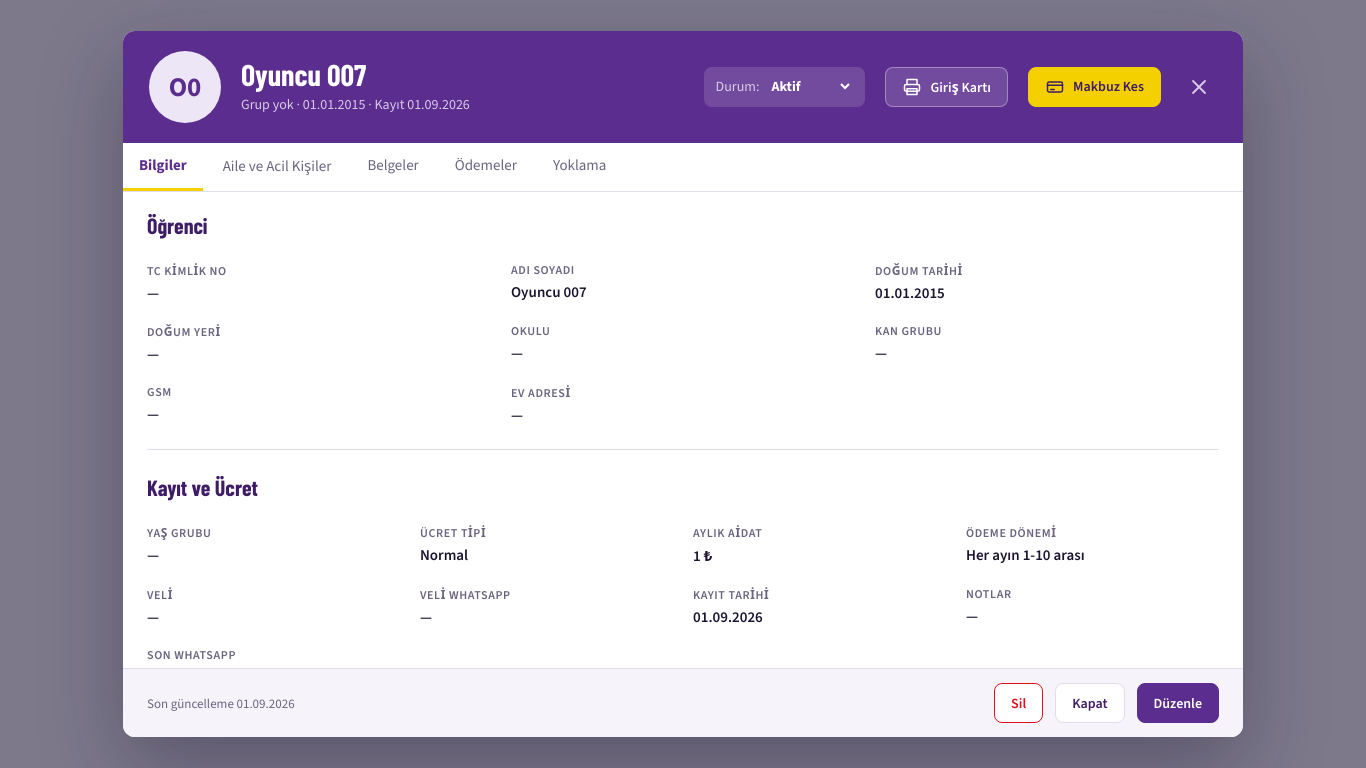
Test: Oyuncu kartı: makbuz ve yoklama sınırları › 12 makbuz / 40 yoklama sınırında 'Tümünü göster' tam listeyi ister; sınır altında satır yok
Click the button "Ödemeler" at (486, 167), box [439,143,533,191]
(page scrolled)
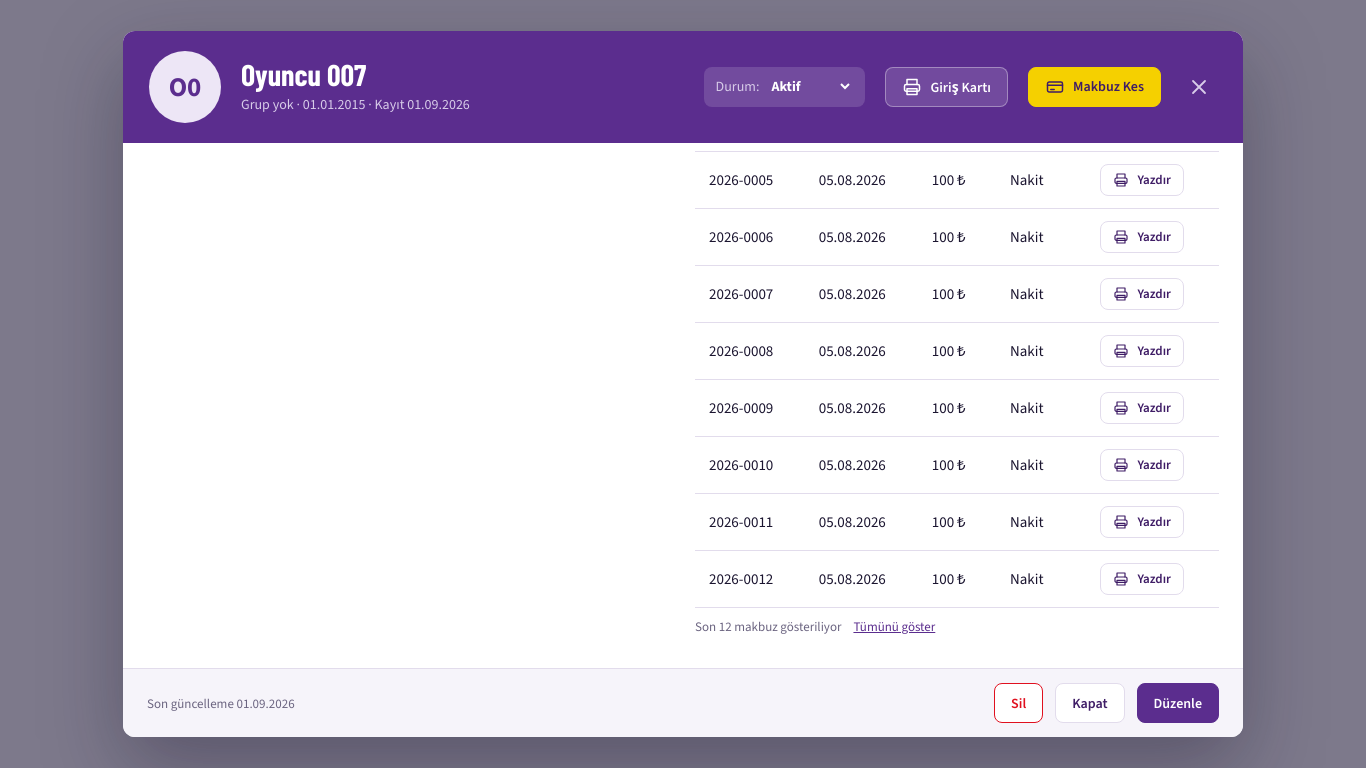
Result: the text "Son 12 makbuz gösteriliyor" is shown at [695,618,841,635]
Result: the number of buttons "Tümünü göster" is 1
Click the button "Tümünü göster" at (894, 626), box [853,618,935,635]
(page scrolled)
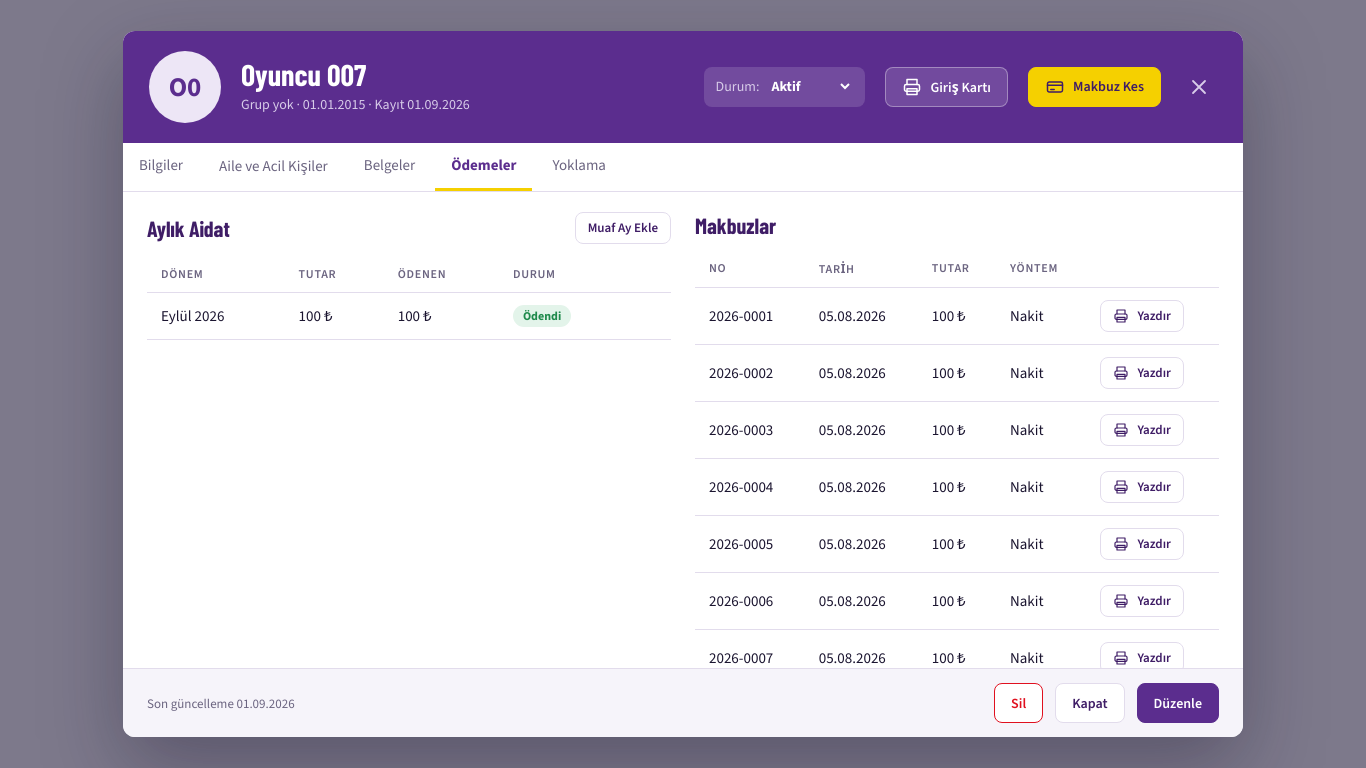
Result: the text "Son 12 makbuz gösteriliyor" is gone
Click the button "Yoklama" at (579, 167), box [536,143,622,191]
(page scrolled)
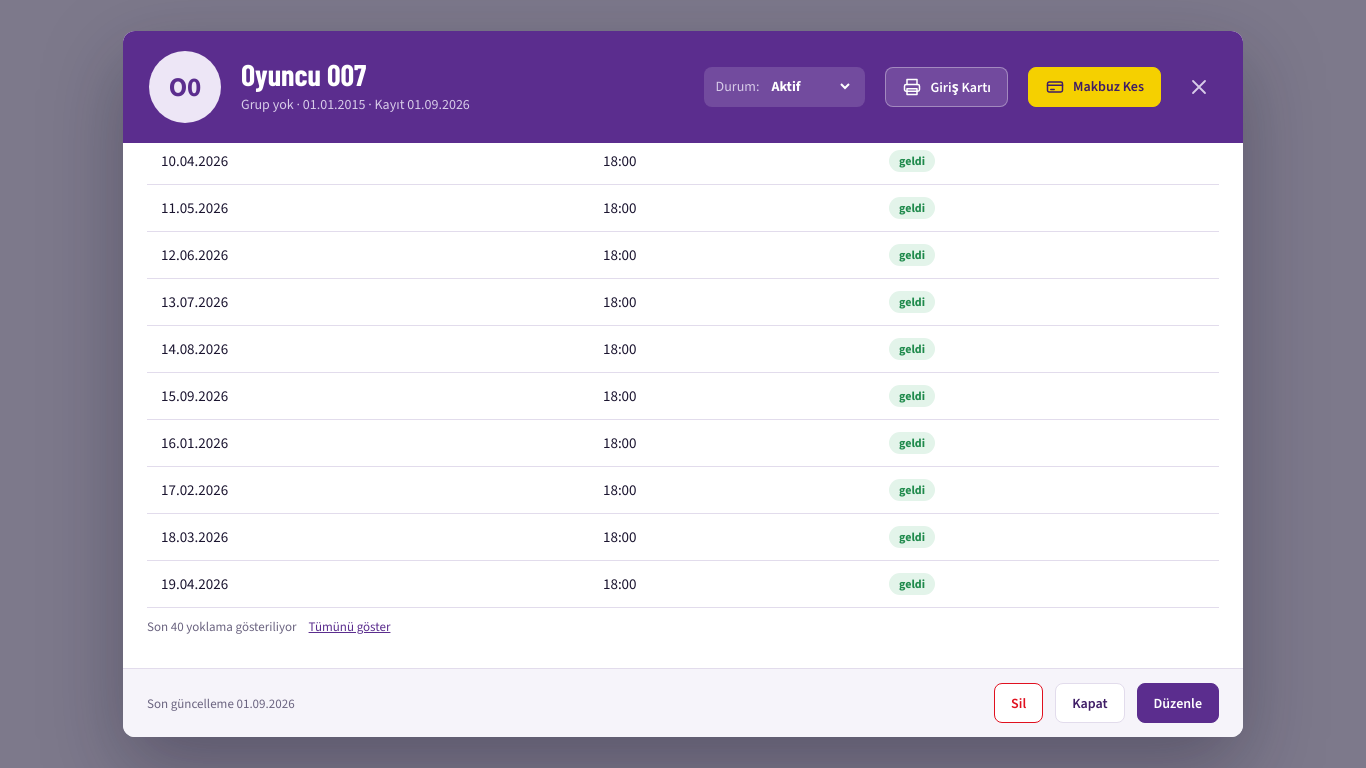
Result: the text "Son 40 yoklama gösteriliyor" is shown at [147,618,297,635]
Click the button "Tümünü göster" at (350, 626), box [309,618,390,635]
(page scrolled)
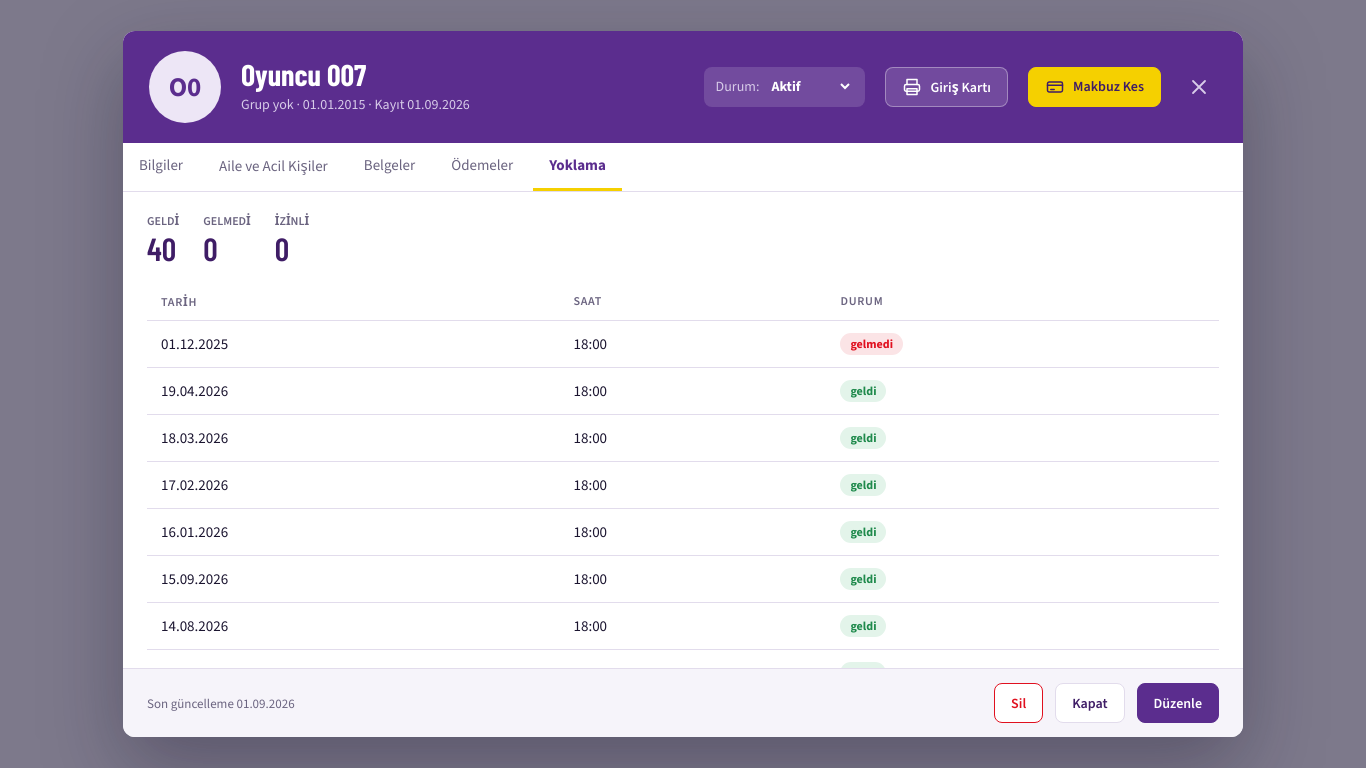
Result: the text "01.12.2025" is shown at [147,320,560,367]
Result: the text "Son 40 yoklama gösteriliyor" is gone
